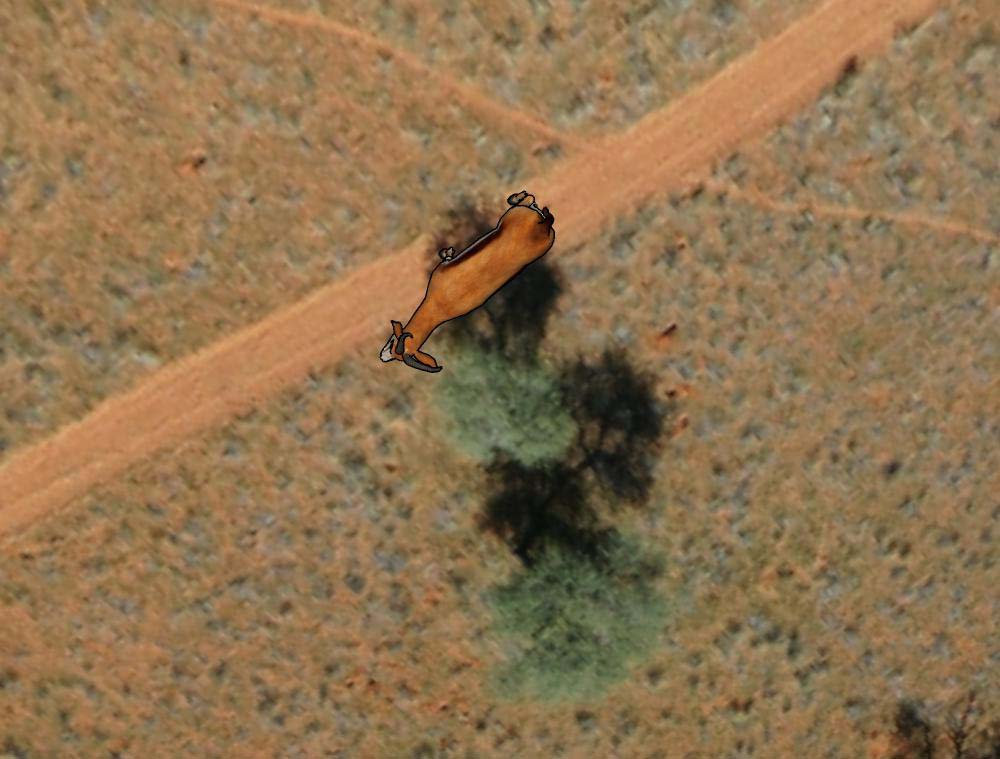springbok: (376, 186, 557, 375)
